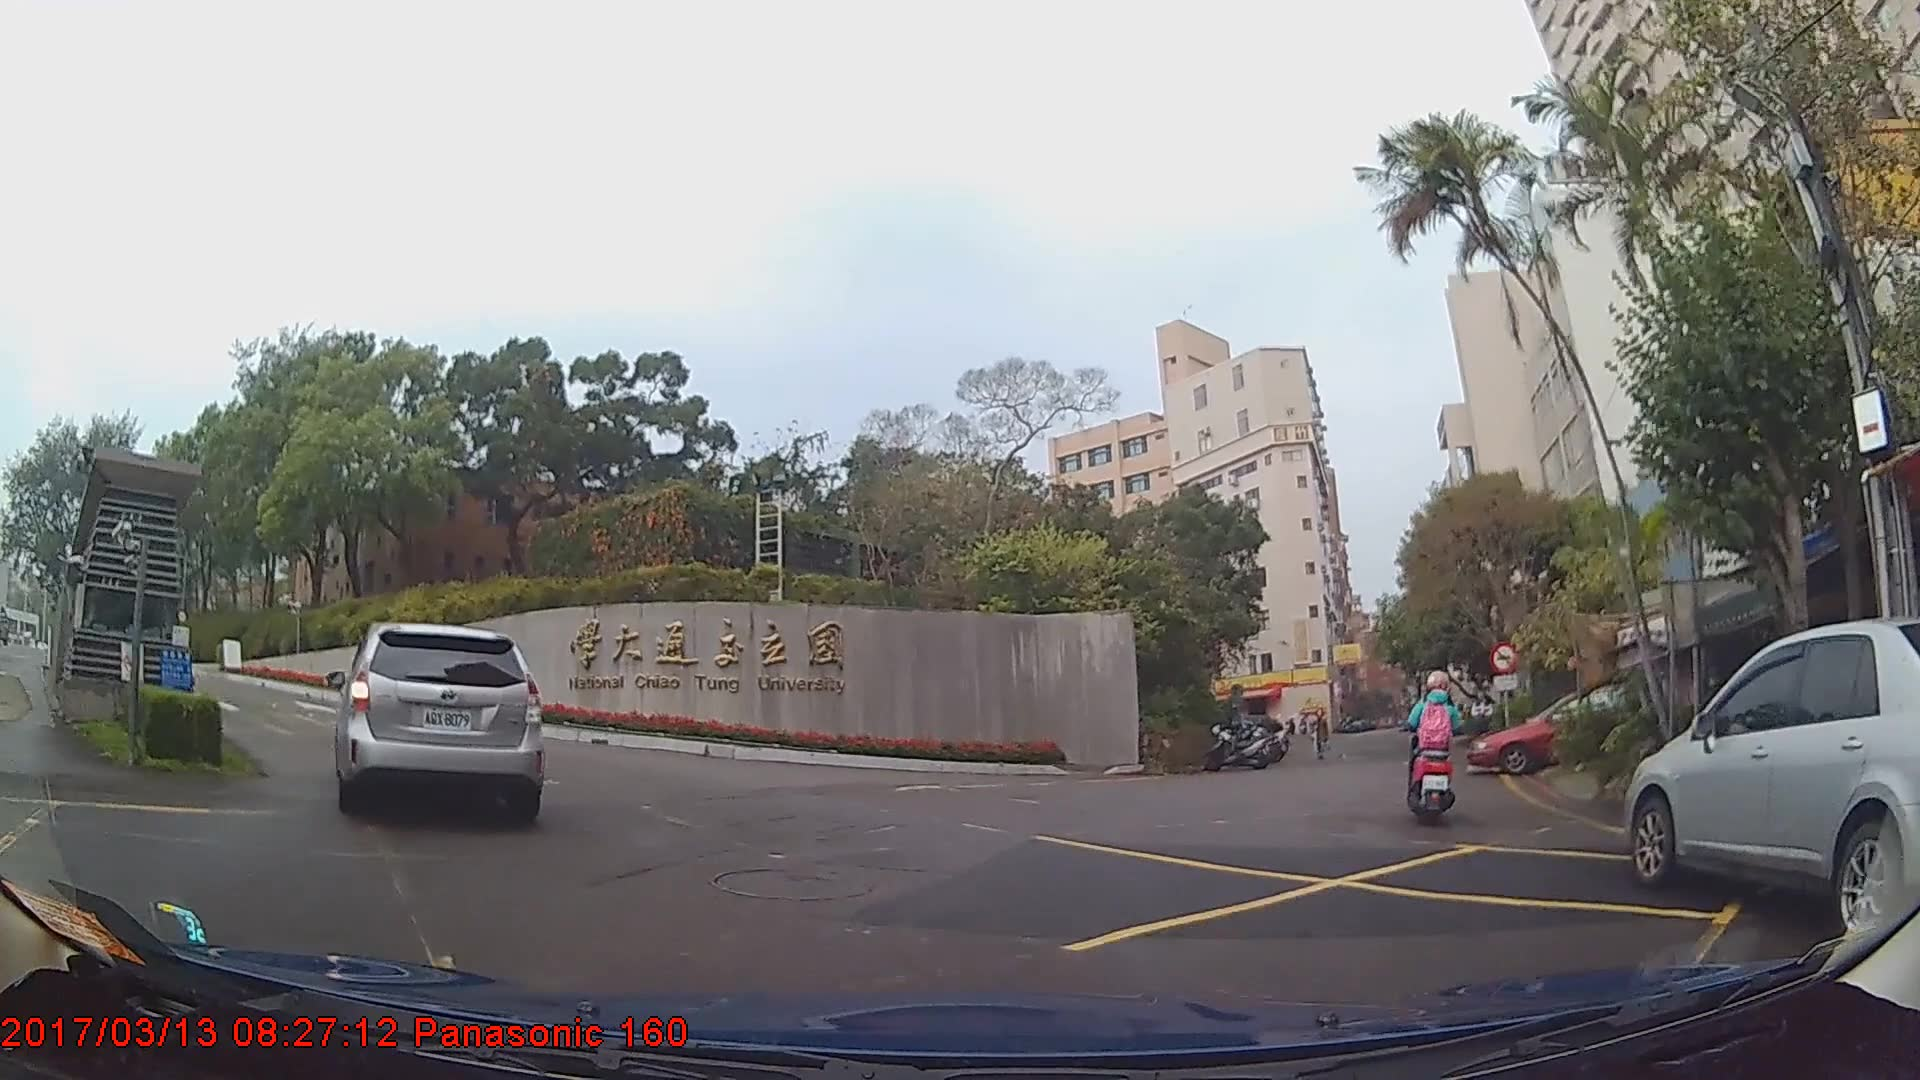pedestrian: (1311, 711, 1333, 765)
rider: (1401, 666, 1462, 829)
vehicle: (1626, 617, 1920, 941), (328, 618, 542, 827), (1470, 686, 1661, 774)
